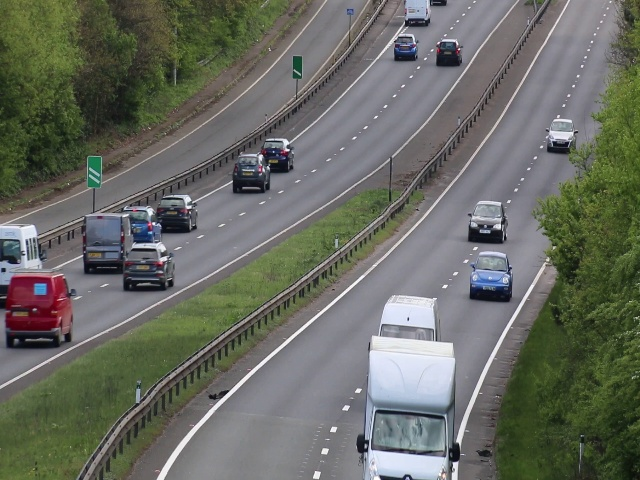car: (360, 336, 462, 480), (4, 273, 75, 348), (1, 218, 46, 296), (80, 215, 137, 273), (381, 294, 441, 339), (123, 242, 177, 290), (470, 249, 512, 304), (467, 195, 509, 244), (157, 191, 202, 233), (229, 153, 272, 195), (131, 201, 163, 243), (262, 135, 297, 173), (546, 112, 576, 156), (433, 35, 464, 67), (393, 33, 419, 62)
